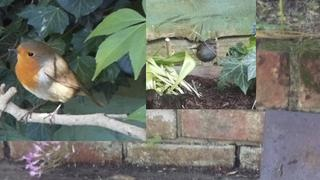robin: (8, 40, 106, 129)
sparrow: (190, 40, 216, 65)
